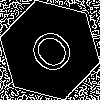O: (25, 25, 85, 85)
